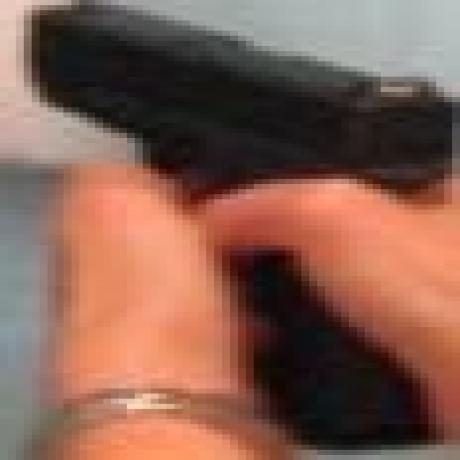weapon: (24, 0, 418, 445)
